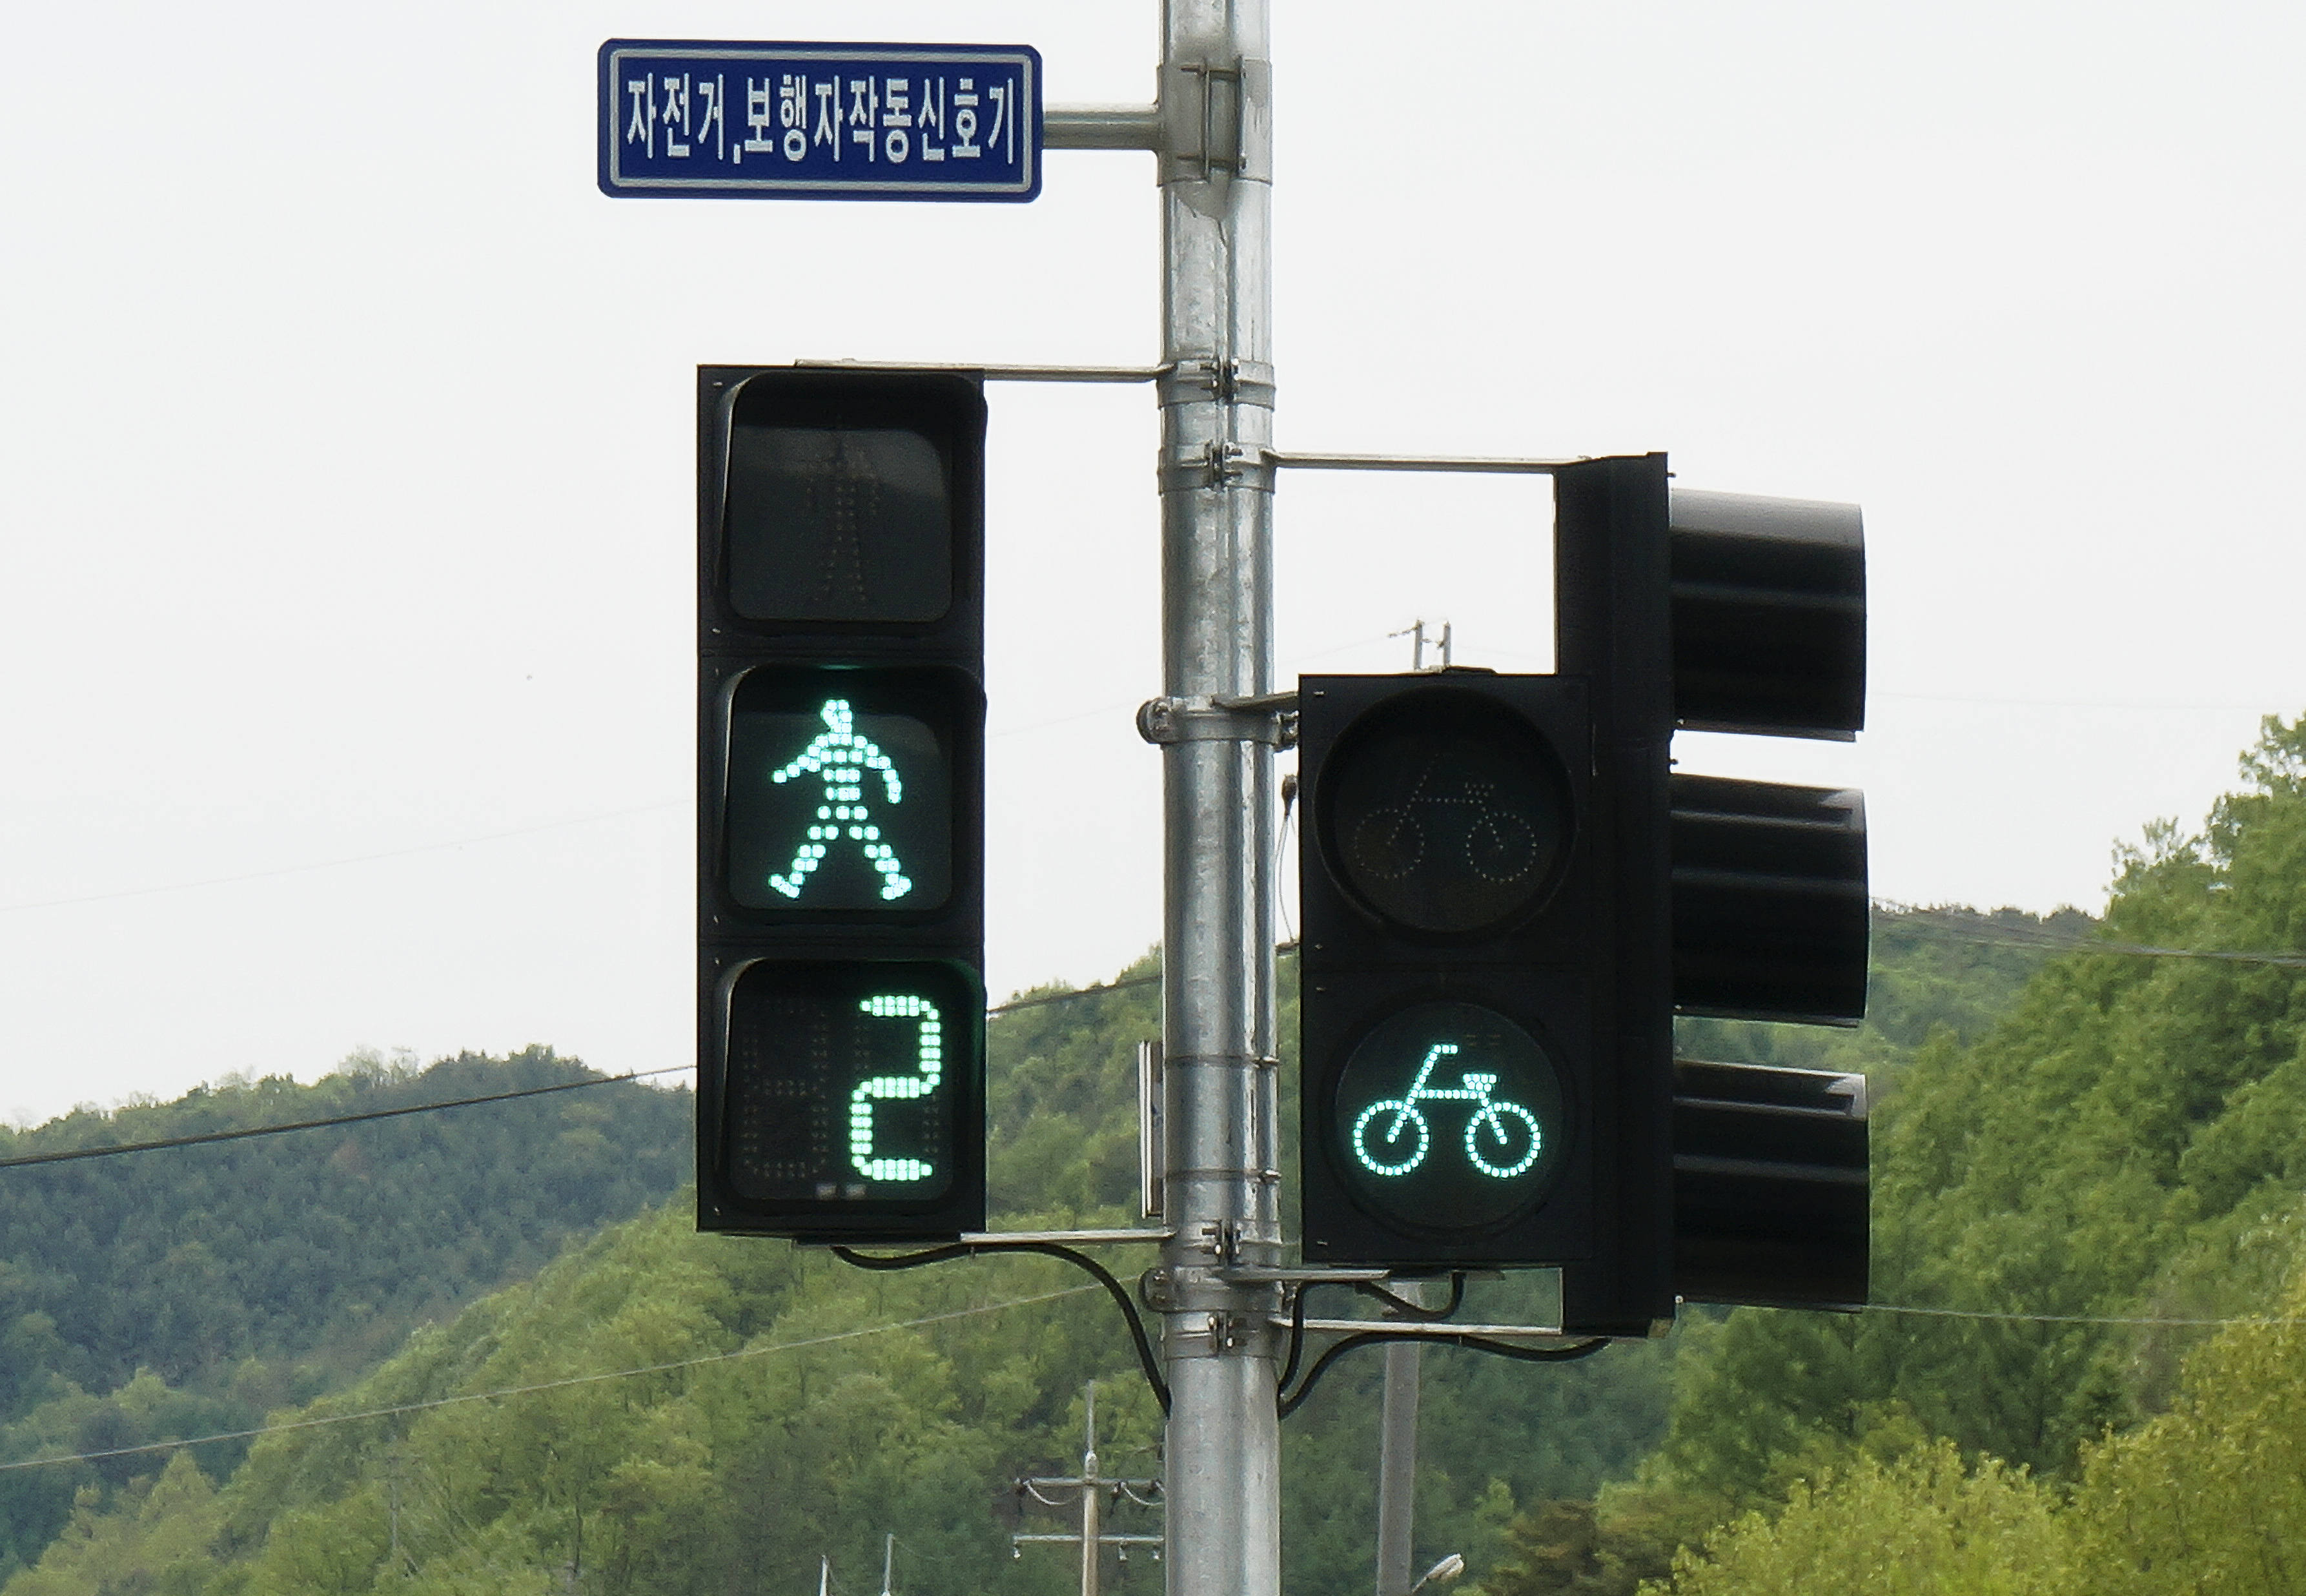traffic_light: (689, 361, 1001, 911)
traffic_light_number: (699, 911, 1008, 1221)
